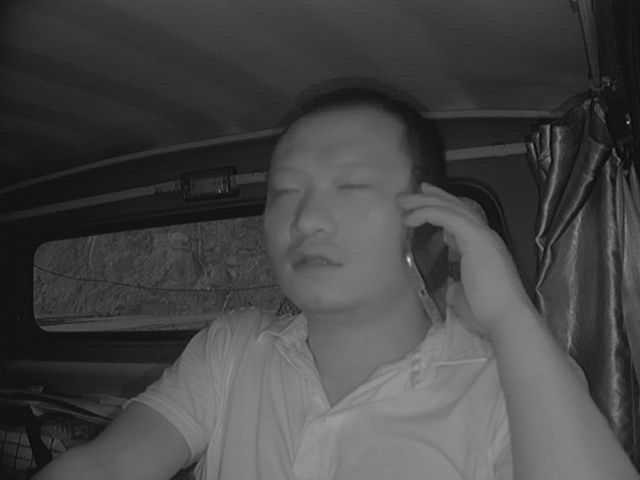hand: (404, 182, 510, 330)
